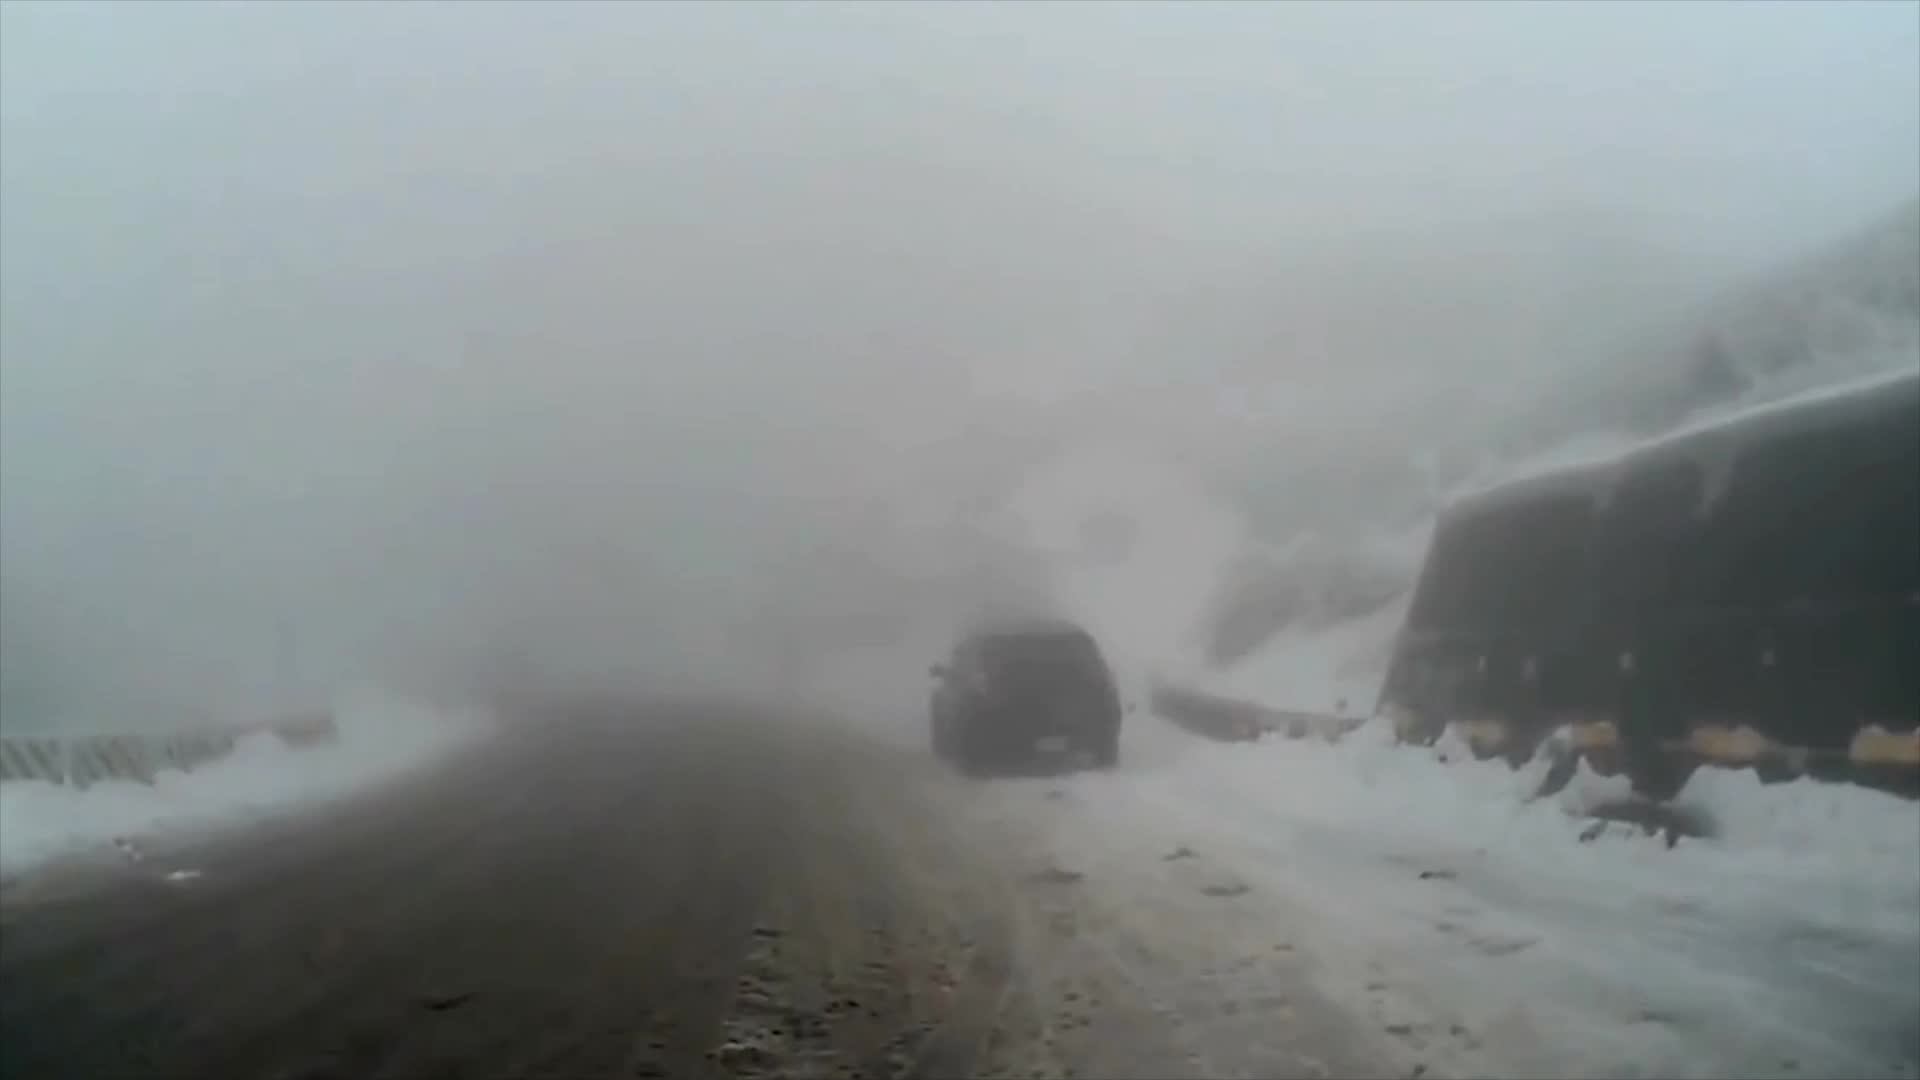vehicle: (924, 615, 1120, 771)
